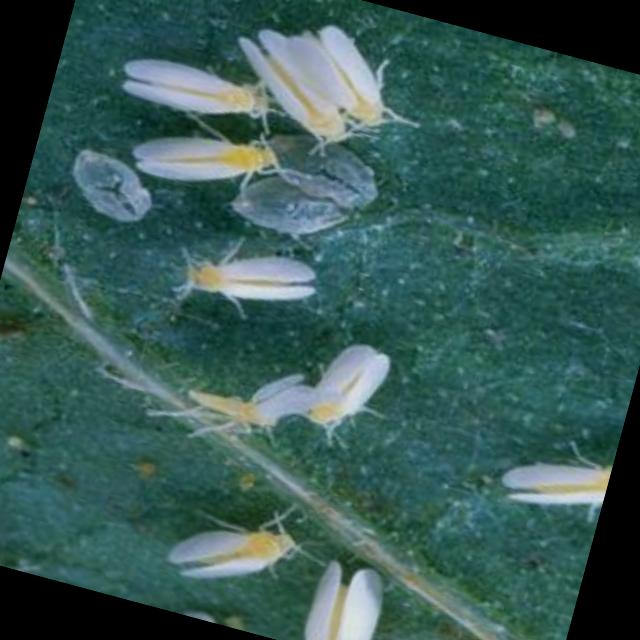Silverleaf whitefly: (174, 289, 408, 487), (227, 0, 434, 181), (124, 446, 317, 614), (98, 96, 295, 230), (471, 400, 621, 564), (152, 211, 332, 344), (104, 0, 280, 133), (287, 503, 428, 640)
